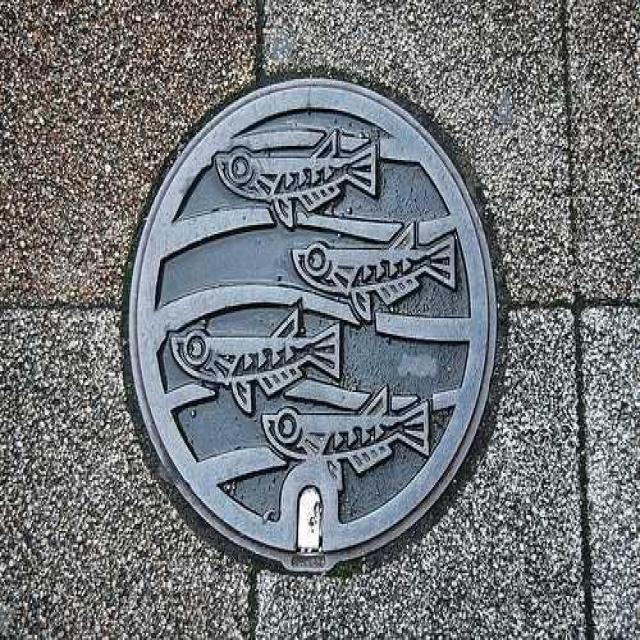manhole: (129, 79, 496, 571)
